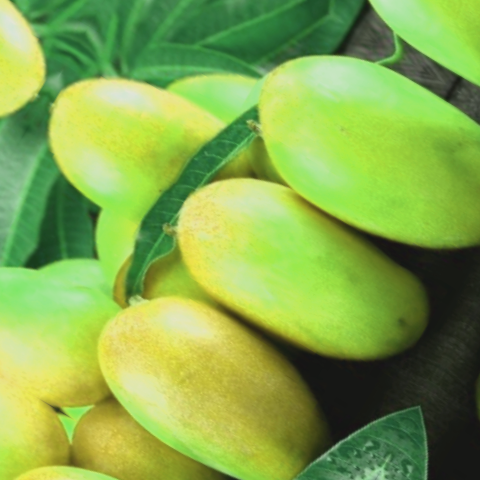mango: (146, 143, 458, 416), (199, 0, 480, 302), (39, 241, 386, 480), (4, 26, 272, 278)
